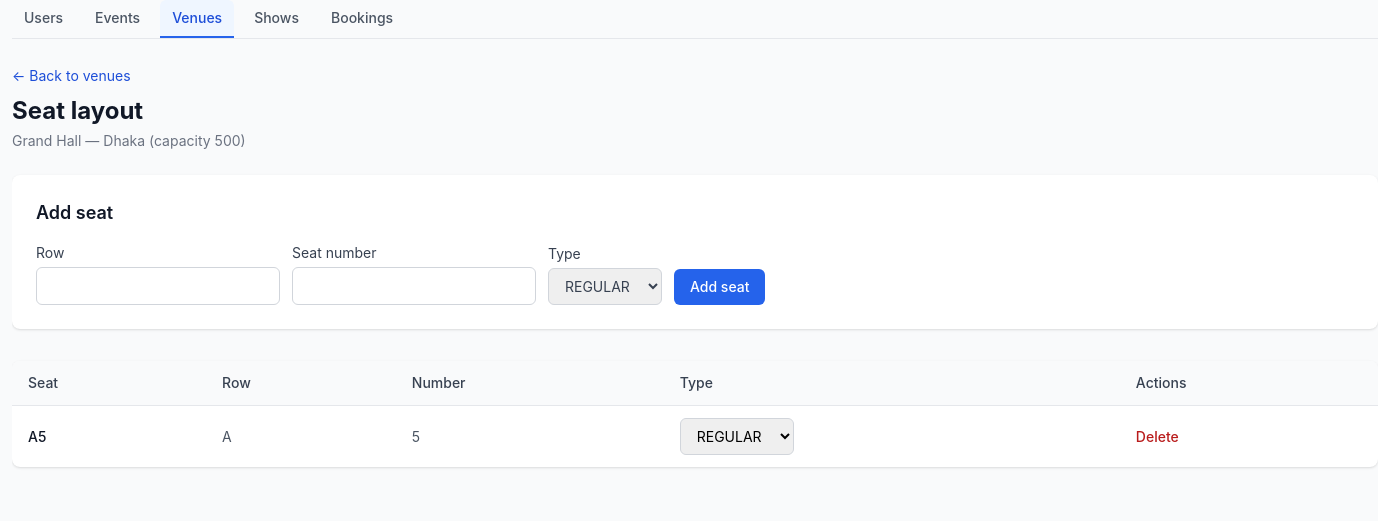
Test case: AdminVenueSeatsPage › updates a seat type inline and deletes seats
expect the text "A5" is shown: met, box [12,406,206,467]
Select "VIP" in the dropdown named "Seat type for A5" at (737, 436), box [680,418,794,455]
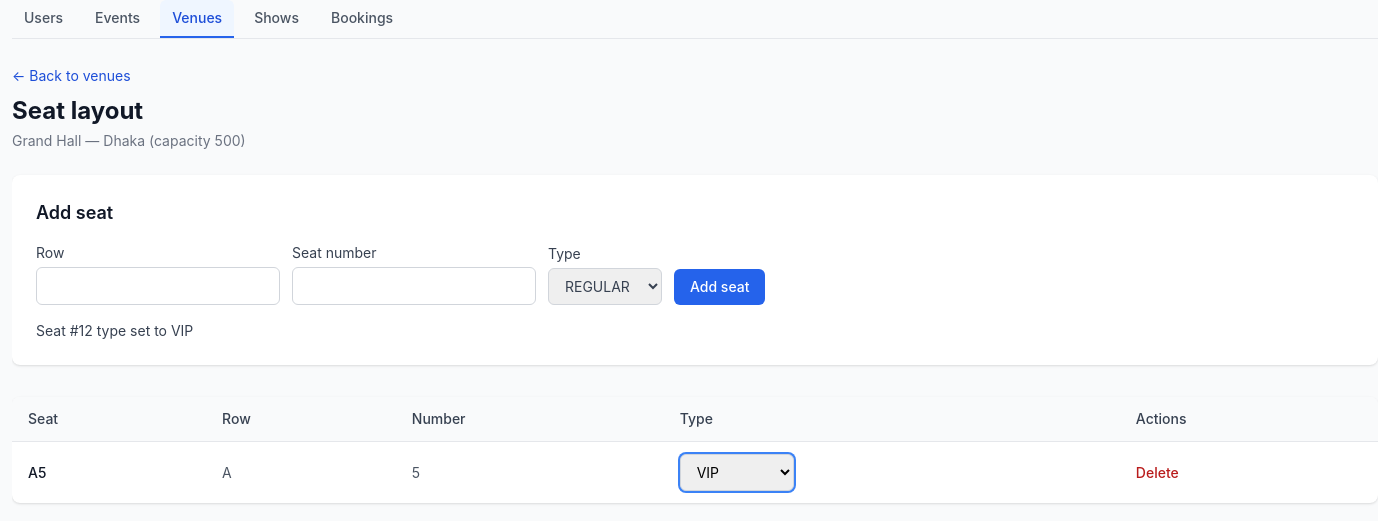
expect the text "Seat #12 type set to VIP" is shown: met, box [36,322,193,339]
Click the button "Delete" at (1157, 472), box [1136,462,1179,482]
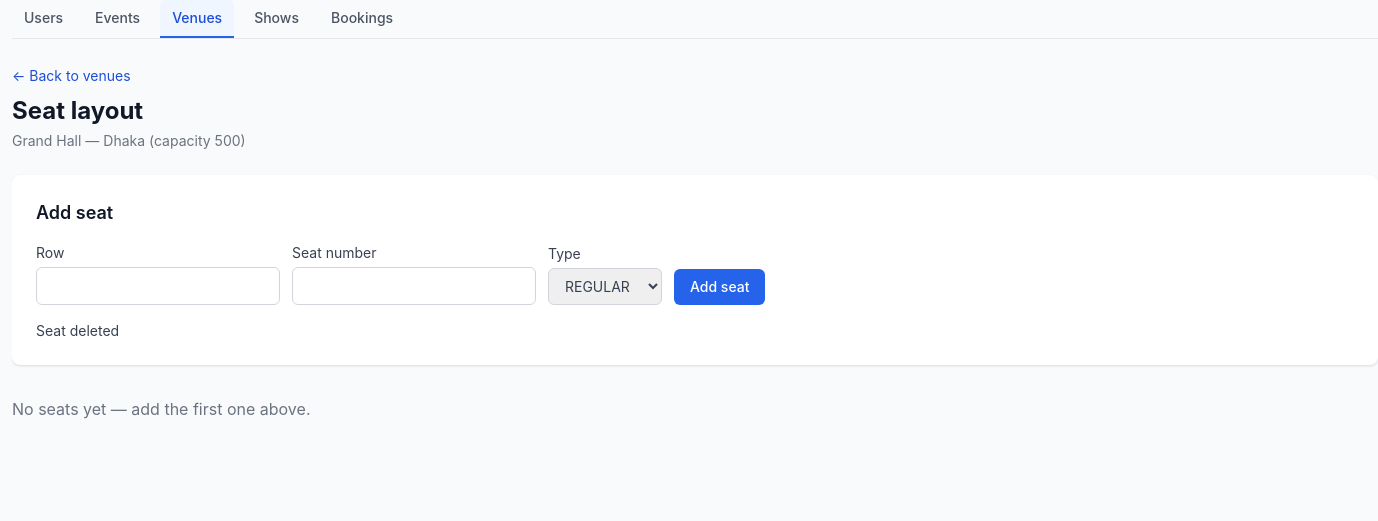
expect the text "Seat deleted" is shown: met, box [36,322,119,339]
expect the text "A5" is gone: met
